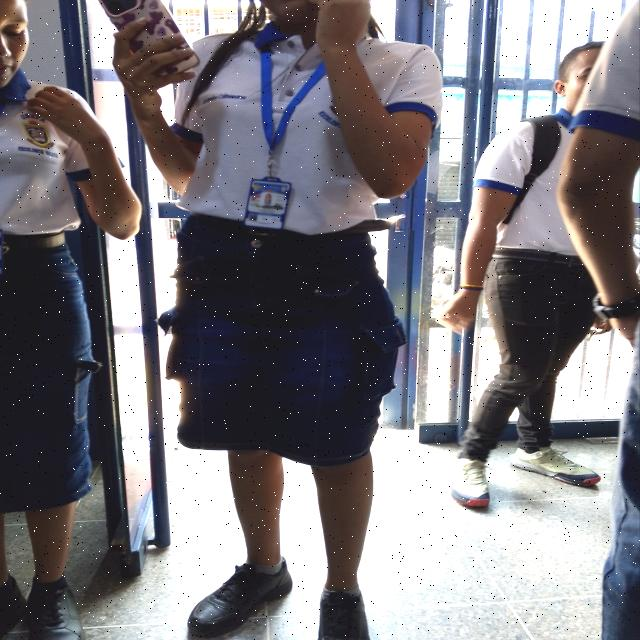carnet: (245, 181, 290, 229)
uniforme_superior: (172, 32, 444, 234), (472, 107, 640, 257), (0, 69, 82, 235)
